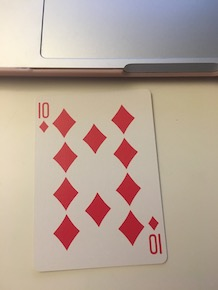TenOfDiamonds: (24, 82, 168, 275)
